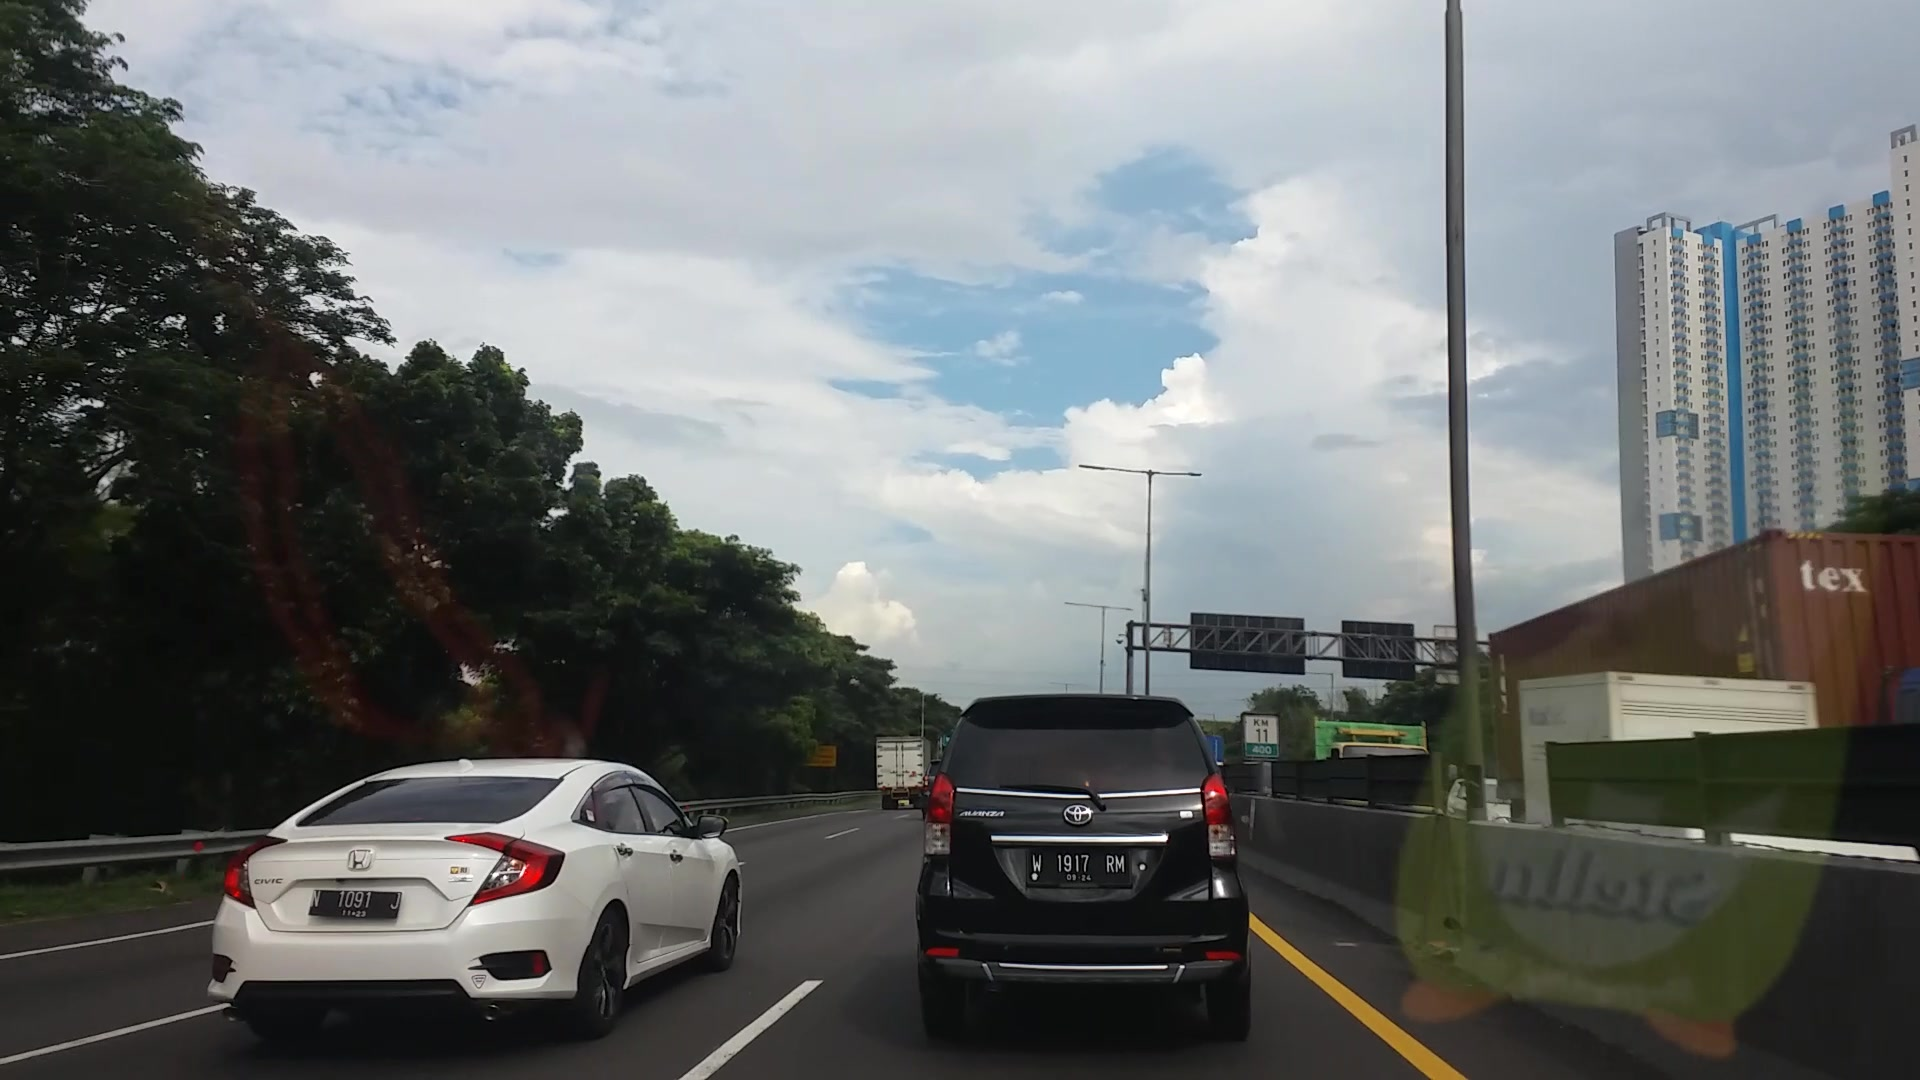plate_positive: (1027, 849, 1127, 884)
